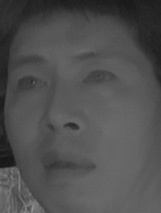eye: (78, 65, 120, 90), (12, 70, 50, 96)
mouth: (37, 146, 97, 184)
